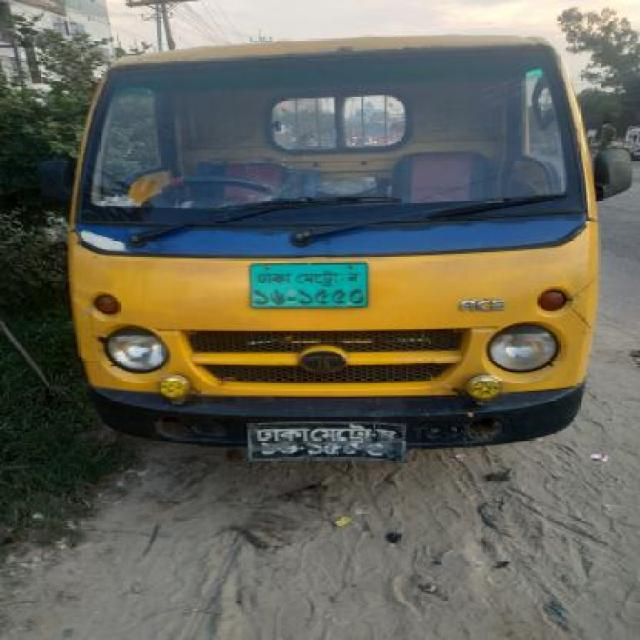numberplate: (245, 418, 408, 462), (246, 260, 369, 309)
